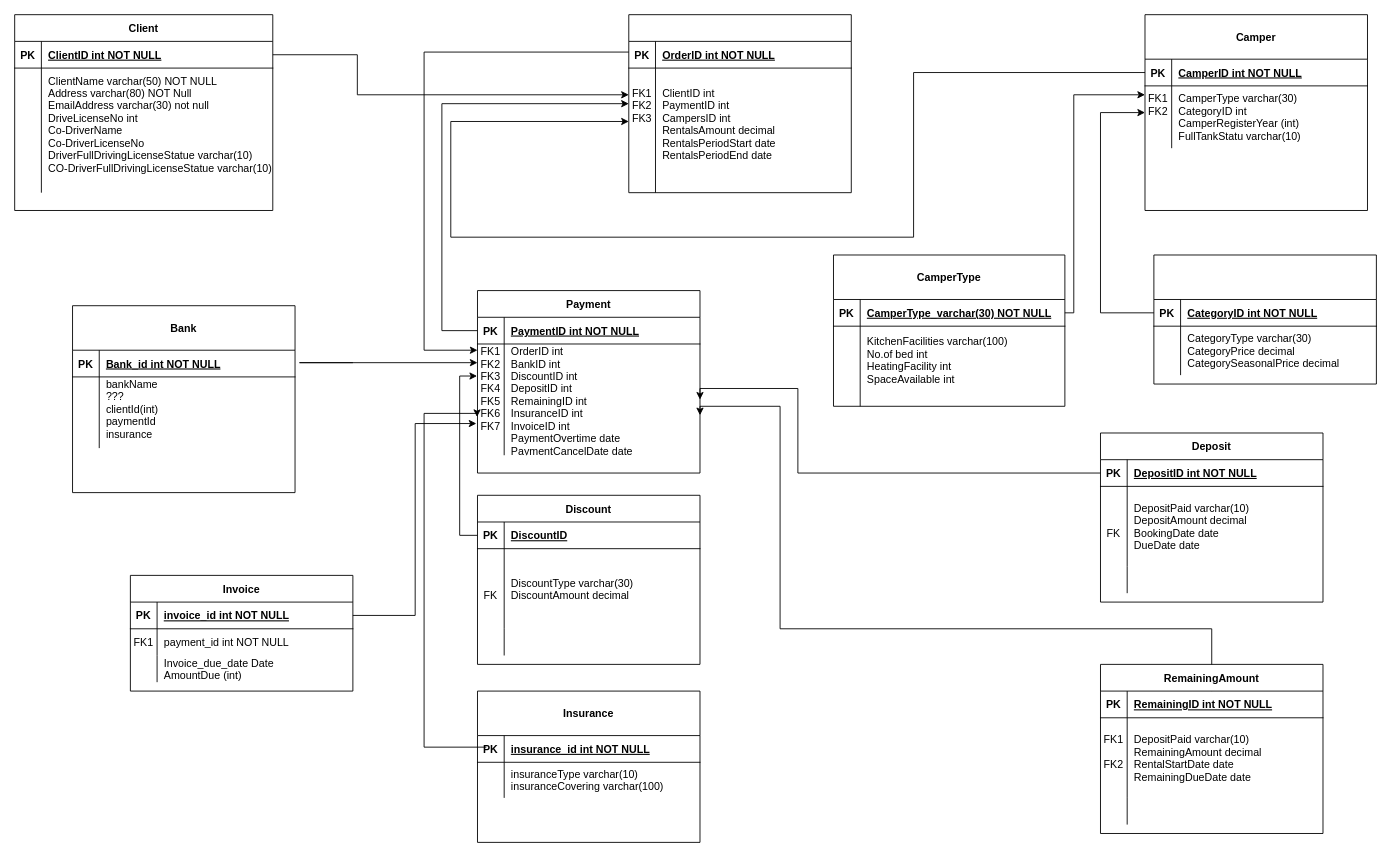
Image size: 1391x857. Some labels were removed from this diagram. The box of each missing label's shape, as (x1, y1, x2, y2) in pixels:
Booking/Reservation: (628, 14, 851, 193)
PriceCategory: (1153, 254, 1376, 384)
